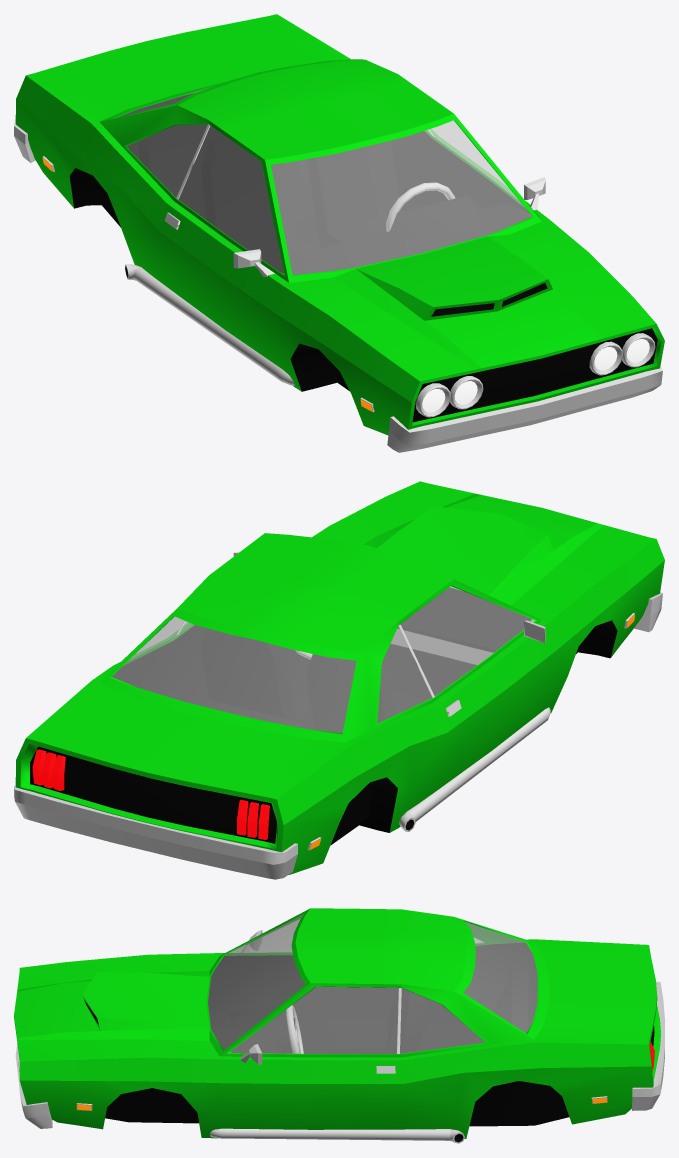
The model's file is car_frame_green.glb.
3 views of the same model, one above another, from view 1: azimuth 30°, elevation 25°; view 2: azimuth 150°, elevation 25°; view 3: azimuth 270°, elevation 25° (orthographic). The views are drawn at different scales.
Parts seen in each view (by area): view 1: Cube; view 2: Cube; view 3: Cube.
Boxes of the visible parts, box(x1,y1,x2,y2) form: Cube: box(14, 14, 664, 452); Cube: box(14, 481, 664, 879); Cube: box(14, 908, 664, 1143).
Size of the model in its own units: 5.46 by 3.02 by 12.16.
